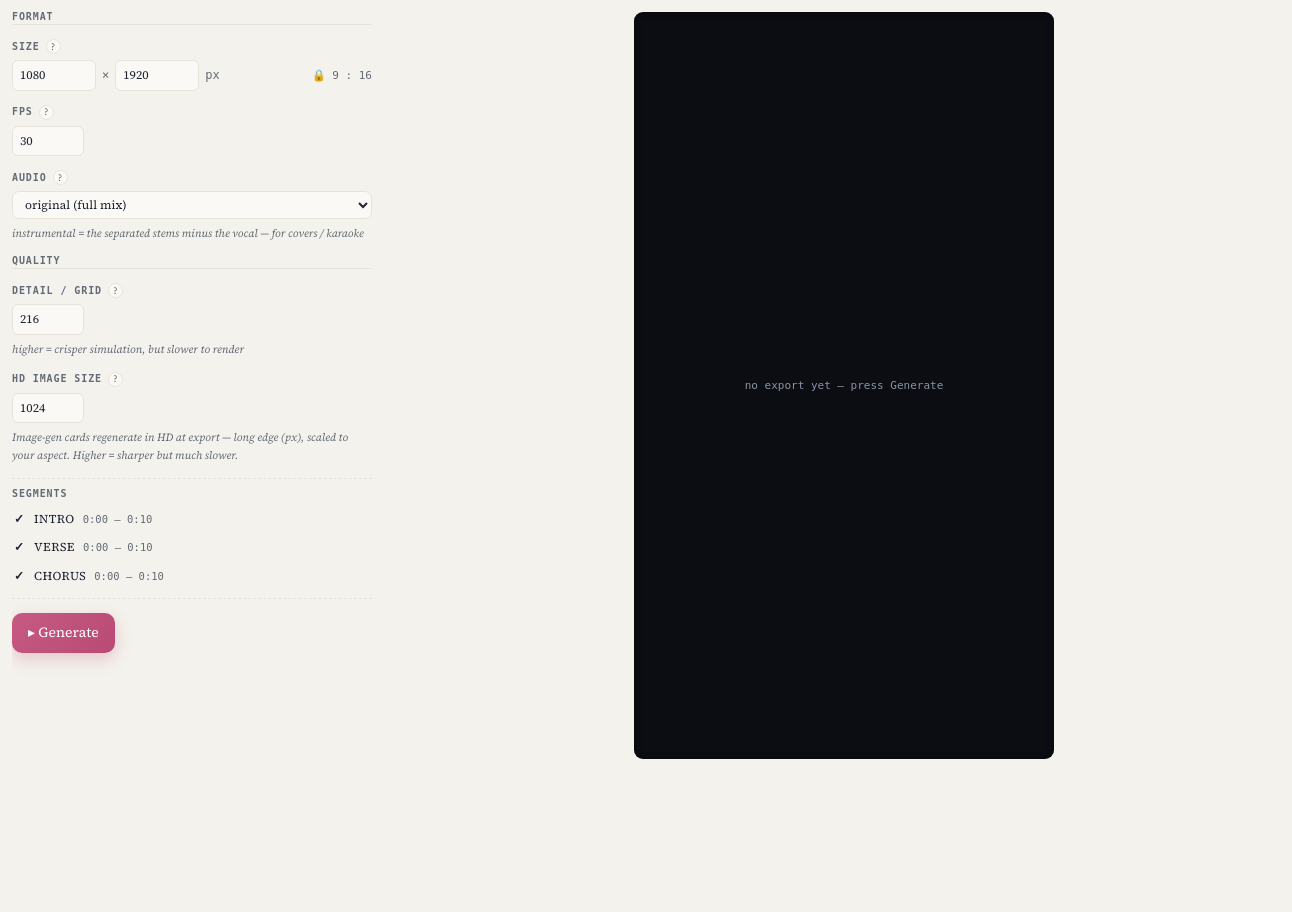
Test: ExportConsole progress › says where in the song the job is, not just a frame count
Click the button "▸ Generate". click: (63, 633)
box: [12, 613, 115, 653]
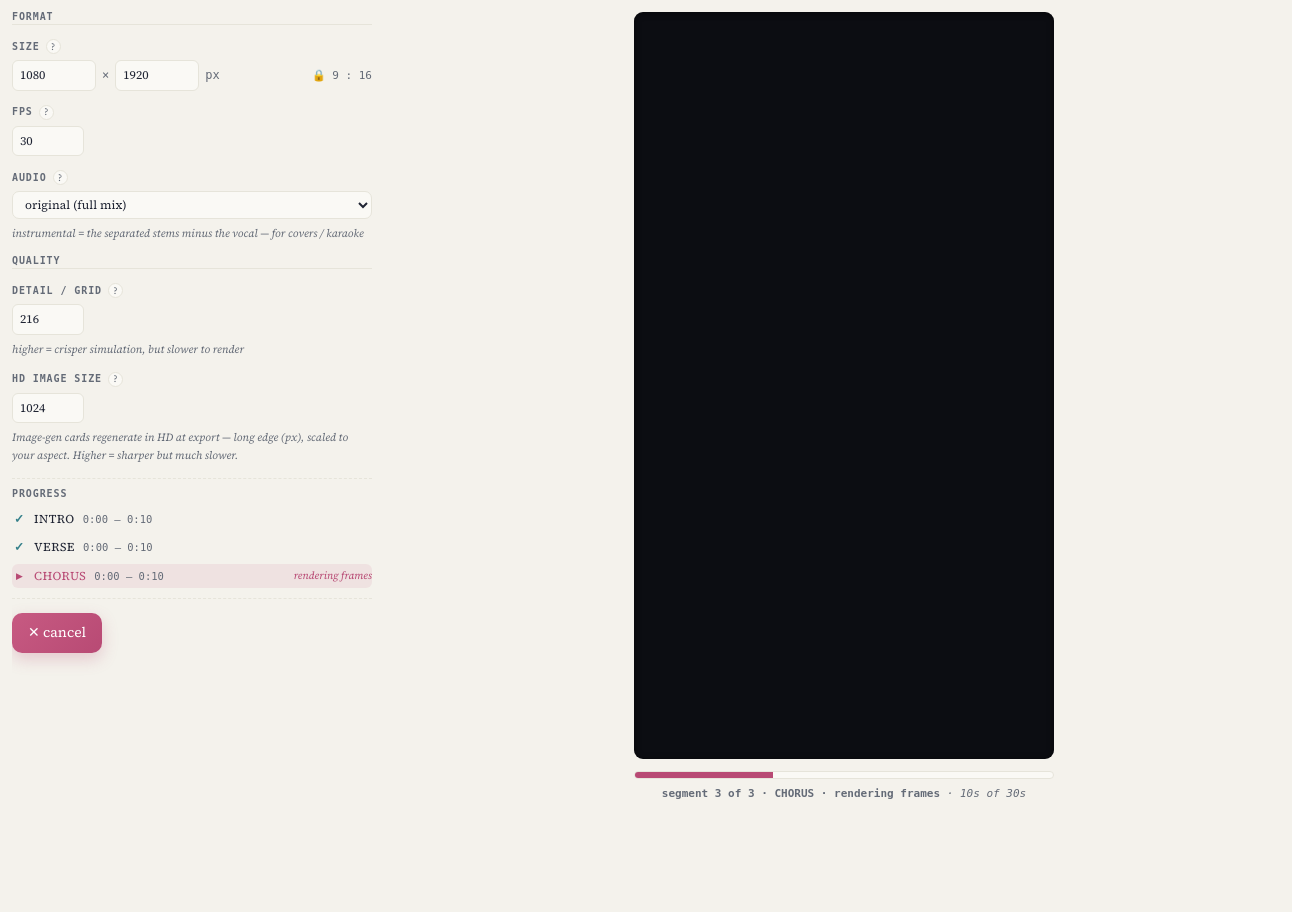
Expected: the element with class "export-progress-label" shows "segment 3 of 3 · CHORUS", [662, 787, 940, 800]
